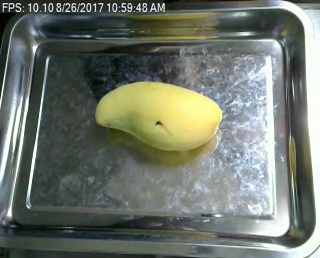Mango: (91, 72, 226, 152)
